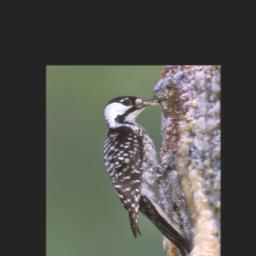Woodpecker: (102, 96, 190, 256)
